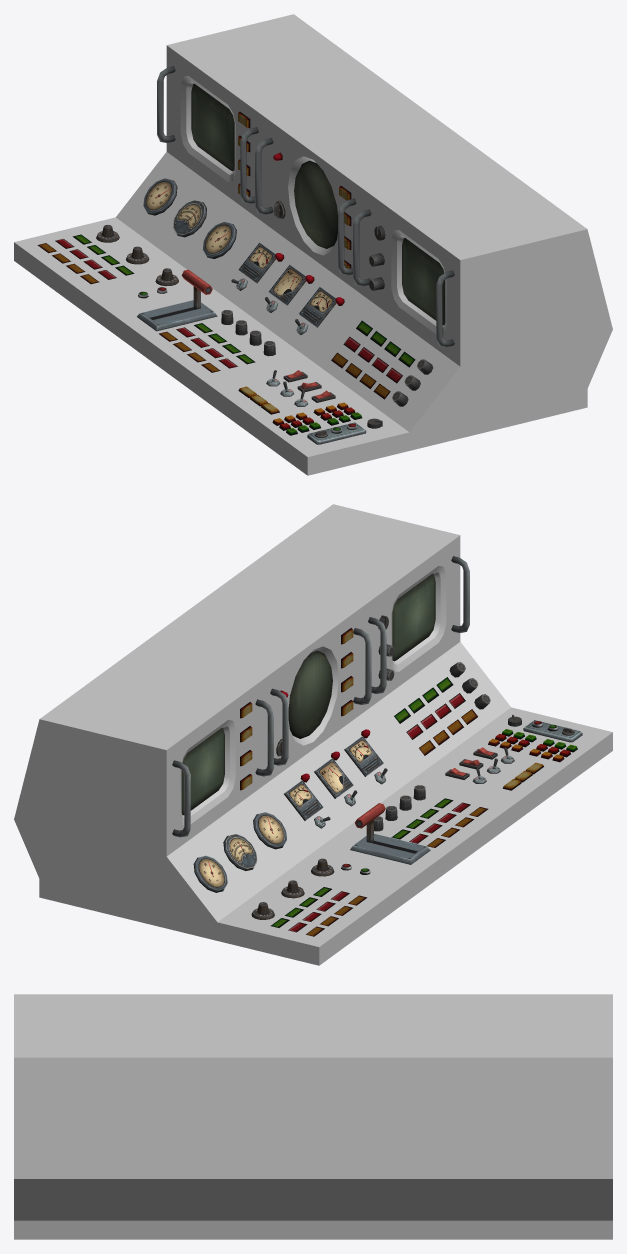
Rendered from ctrlPanel_middle01_B.FBX.
The picture shows the model from 3 angles, top to bottom: view 1: azimuth 30°, elevation 25°; view 2: azimuth 150°, elevation 25°; view 3: azimuth 270°, elevation 25°; orthographic projection.
Parts seen in each view (by area): view 1: ctrlPanel_middle01_B, ctrlPanel_buttons, ctrlPanel_gauges, screen_radar, screen_computer01, screen_computer02; view 2: ctrlPanel_middle01_B, ctrlPanel_buttons, ctrlPanel_gauges, screen_radar, screen_computer02, screen_computer01; view 3: ctrlPanel_middle01_B.
Part boxes in pixels (box(x1,y1,x2,y2)): ctrlPanel_middle01_B: box(14, 14, 612, 475); ctrlPanel_buttons: box(37, 112, 415, 435); ctrlPanel_gauges: box(143, 178, 336, 327); screen_radar: box(294, 160, 337, 248); screen_computer01: box(191, 83, 234, 171); screen_computer02: box(402, 238, 445, 325); ctrlPanel_middle01_B: box(14, 504, 612, 965); ctrlPanel_buttons: box(240, 628, 577, 936); ctrlPanel_gauges: box(193, 736, 383, 892); screen_radar: box(288, 650, 332, 738); screen_computer02: box(392, 573, 435, 661); screen_computer01: box(181, 728, 224, 815); ctrlPanel_middle01_B: box(14, 994, 612, 1239).
Bounding box in the file's own units: 120 × 67 × 200.
